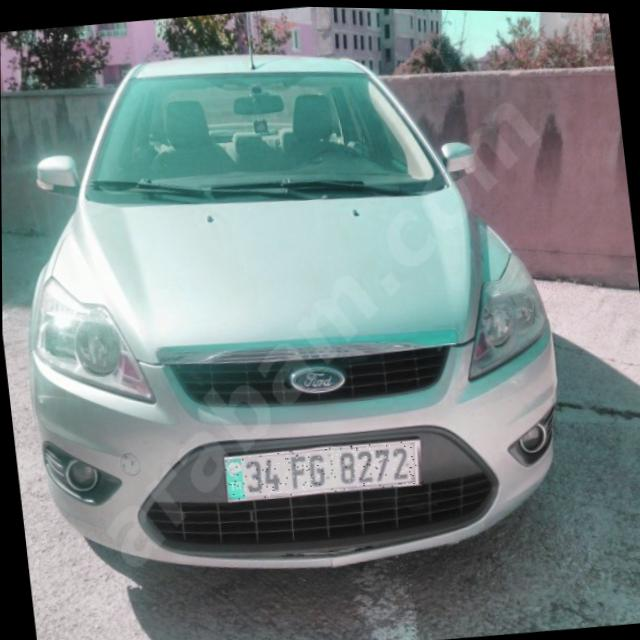license_plate: (223, 434, 423, 502)
